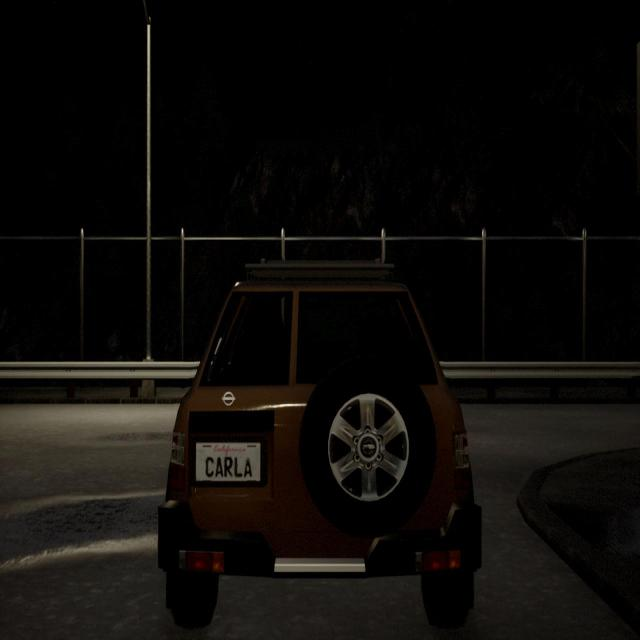Vehicle: (159, 257, 485, 637)
